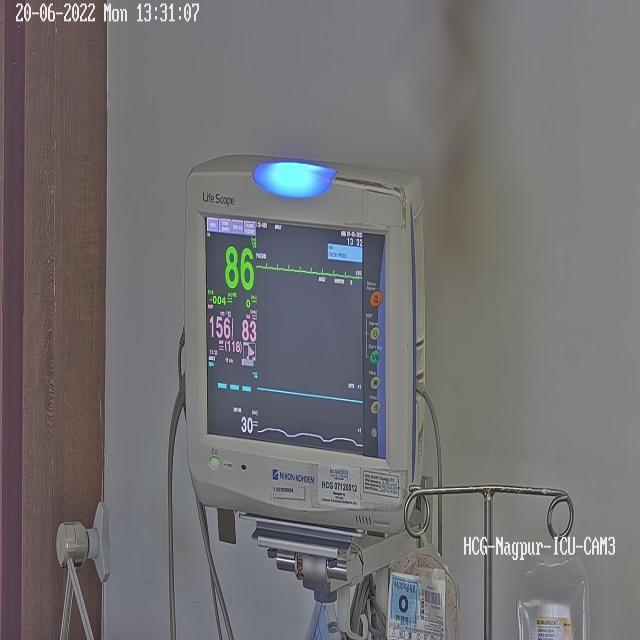Monitor: (184, 152, 422, 624)
Saline Stand: (401, 441, 640, 640)
